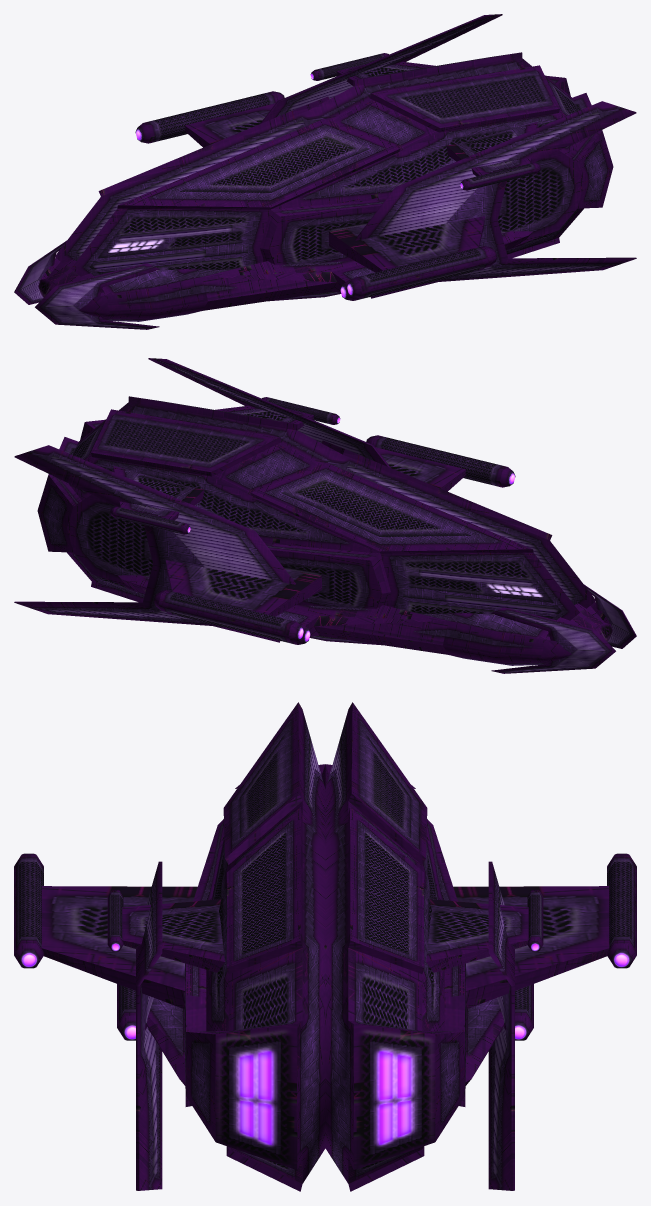
File: traiwyndFighter.FBX
3 views of the same model, one above another, from view 1: azimuth 30°, elevation 25°; view 2: azimuth 150°, elevation 25°; view 3: azimuth 270°, elevation 25° (orthographic). The views are drawn at different scales.
Parts seen in each view (by area): view 1: Fighter; view 2: Fighter; view 3: Fighter.
Part boxes in pixels (box(x1,y1,x2,y2)): Fighter: box(14, 14, 636, 329); Fighter: box(14, 358, 636, 673); Fighter: box(14, 702, 636, 1191).
Size of the model in its own units: 20.23 by 7.03 by 13.79.
Materials: 1 (1 with a texture image).
